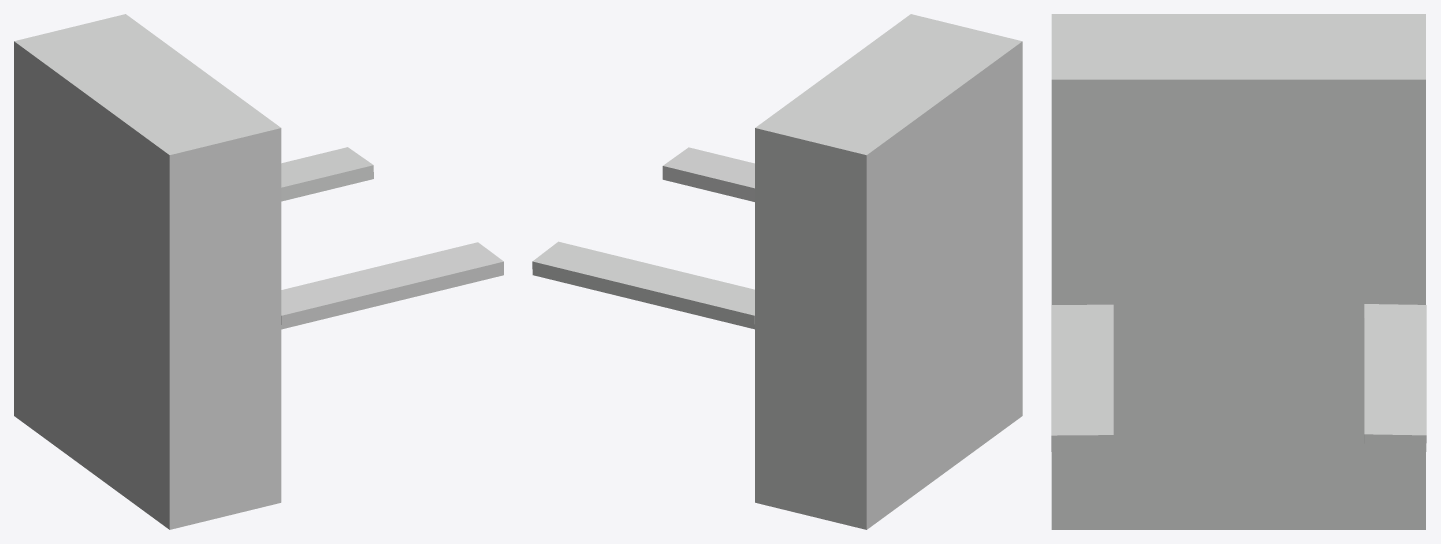
File: backpack unit.fbx
3 views of the same model, side by side, from view 1: azimuth 30°, elevation 25°; view 2: azimuth 150°, elevation 25°; view 3: azimuth 270°, elevation 25° (orthographic). The views are drawn at different scales.
Parts seen in each view (by area): view 1: node_id7, node_id10, node_id13; view 2: node_id7, node_id13, node_id10, node_id23; view 3: node_id7, node_id13, node_id10.
Boxes of the visible parts, x1=… form: node_id7: x1=14, y1=14, x2=281, y2=529; node_id10: x1=281, y1=242, x2=503, y2=329; node_id13: x1=281, y1=147, x2=373, y2=201; node_id7: x1=755, y1=14, x2=1022, y2=529; node_id13: x1=532, y1=241, x2=754, y2=329; node_id10: x1=662, y1=147, x2=754, y2=201; node_id23: x1=532, y1=243, x2=729, y2=320; node_id7: x1=1051, y1=14, x2=1425, y2=529; node_id13: x1=1364, y1=304, x2=1426, y2=451; node_id10: x1=1051, y1=304, x2=1113, y2=451.
Bounding box in the file's own units: 0.4778 × 0.512 × 0.3869.
6 materials, 6 textured.
